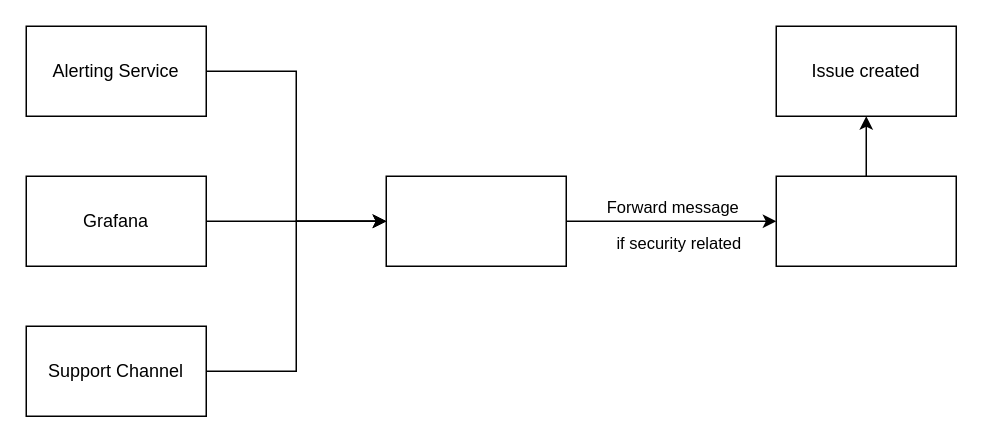
This 983x443 diagram has some shape labels left out. Here are the shapes that lost their labels. From the top down, the box of each, then its label:
(385, 175, 566, 266): Alert Slack Channel
(775, 175, 956, 266): Jira Incidents
